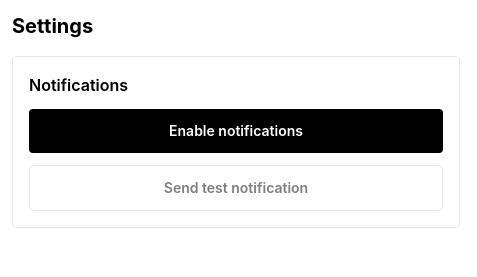
Test case: Settings notifications › send is disabled until notifications are enabled
The width and height of the screenshot is (477, 277).
Check: the button "Send test notification" is disabled, box [29,165,443,211]
What coordinates should you click on to do the following:
click the button "Enable notifications"
I would click on:
 (236, 131)
Its box is [29,109,443,153].
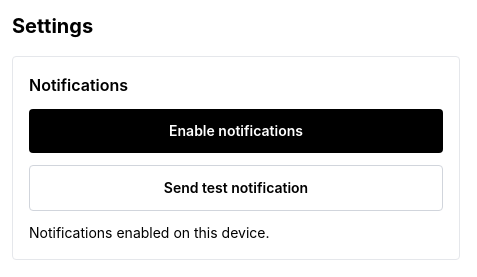
Check: the message shows "enabled", box [29,224,270,241]
Check: the button "Send test notification" is enabled
What coordinates should you click on to do the following:
click the button "Send test notification"
I would click on:
 (236, 188)
Its box is [29,165,443,211].
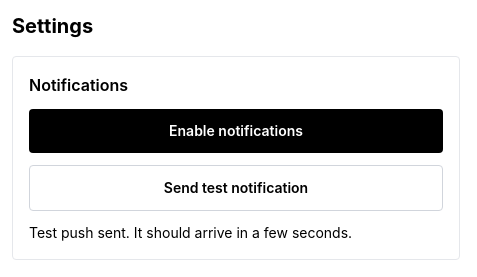
Check: the text "Test push sent. It should arrive in a few seconds." is shown, box [29,224,352,241]
